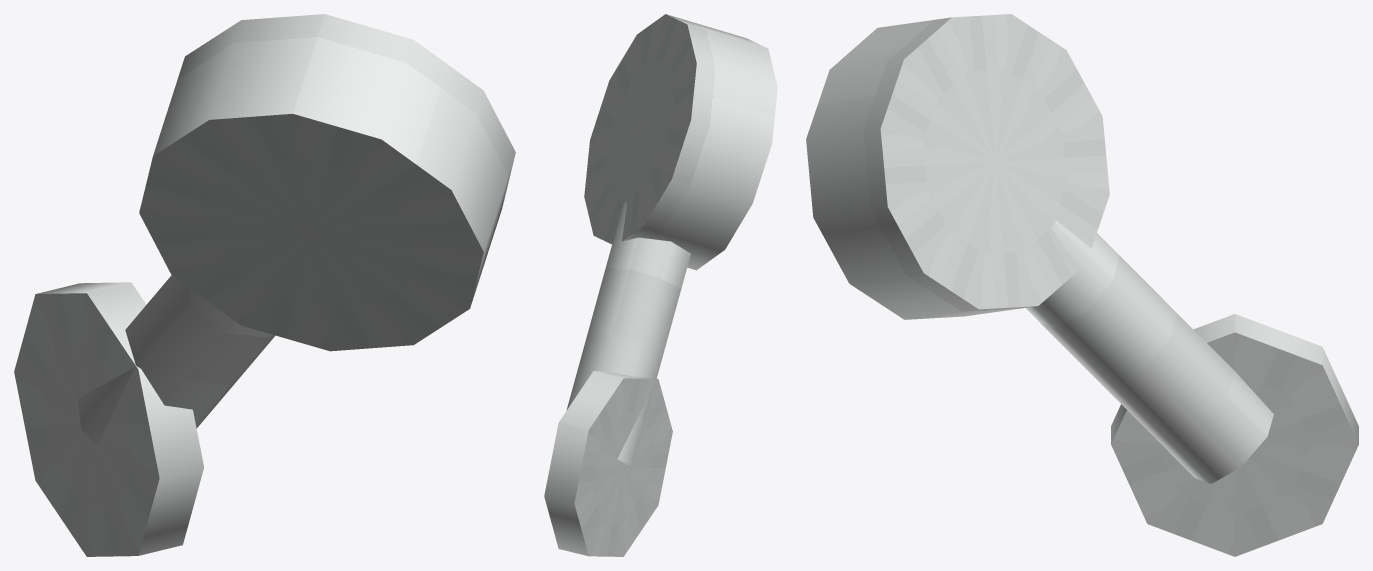
File: nycsignalarm_stub_132.obj
3 renders of one model, left to right at view 1: azimuth 30°, elevation 25°; view 2: azimuth 150°, elevation 25°; view 3: azimuth 270°, elevation 25°, orthographic. The views are drawn at different scales.
Parts seen in each view (by area): view 1: nycsignalarm_stub_132; view 2: nycsignalarm_stub_132; view 3: nycsignalarm_stub_132.
Boxes of the visible parts, left/top/right/bottom form: nycsignalarm_stub_132: left=14, top=14, right=515, bottom=556; nycsignalarm_stub_132: left=544, top=14, right=777, bottom=556; nycsignalarm_stub_132: left=806, top=14, right=1358, bottom=556.
Bounding box in the file's own units: 0.429 × 0.8584 × 0.7806.
